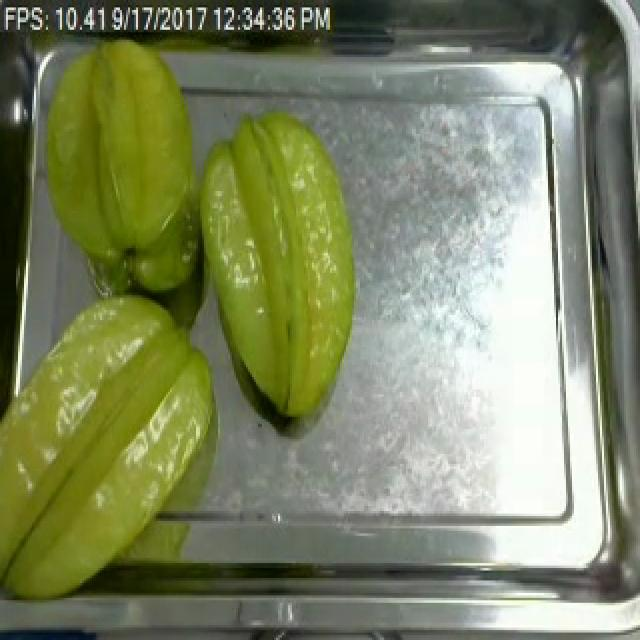fruit: (0, 273, 242, 610), (186, 97, 366, 434), (20, 25, 212, 305)
